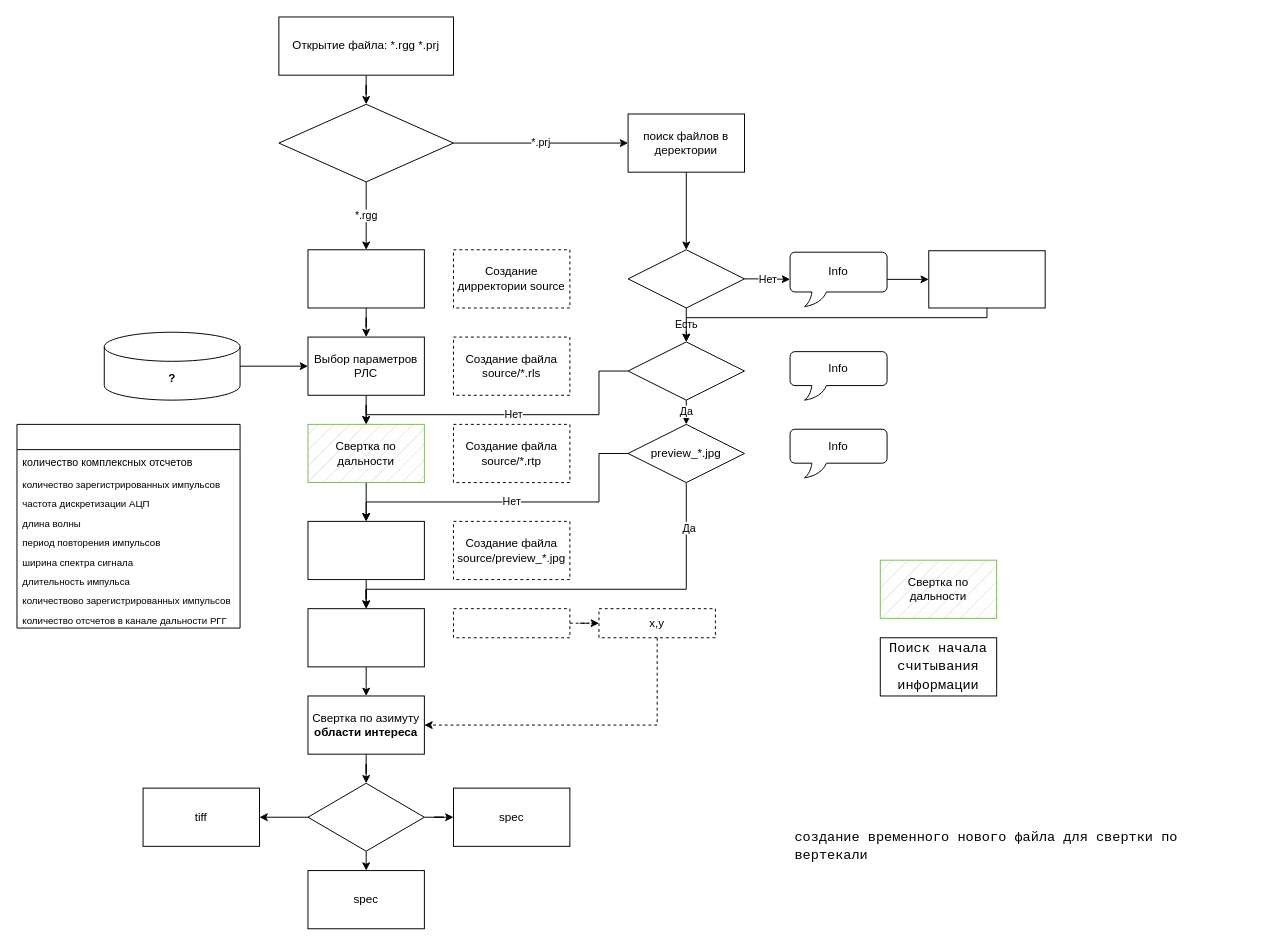
Image size: 1266x946. Some labels were removed from this diagram. Here are the shapes that lost their labels. From the top down, the box of each, then its label:
(278, 103, 453, 182): Тип
(307, 249, 424, 308): Создание дирректории обработки (source)
(627, 249, 744, 308): *.rls
(928, 250, 1045, 308): Ввод параметров РЛС
(627, 341, 744, 400): *.rtp
(16, 423, 240, 628): List
(307, 520, 424, 580): Свертка по азимуту для предпосмотра
(307, 608, 424, 667): Выбор области интереса
(453, 608, 570, 638): x0,y0,x1,y1
(307, 782, 424, 851): Сохранение изображения
